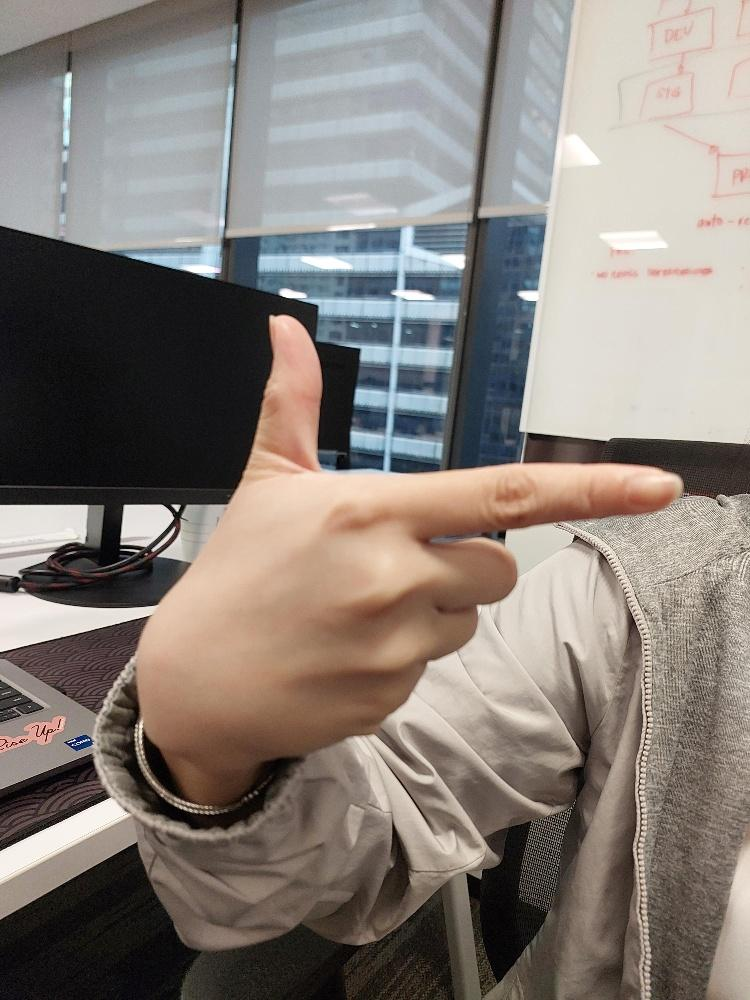g: (204, 312, 681, 748)
